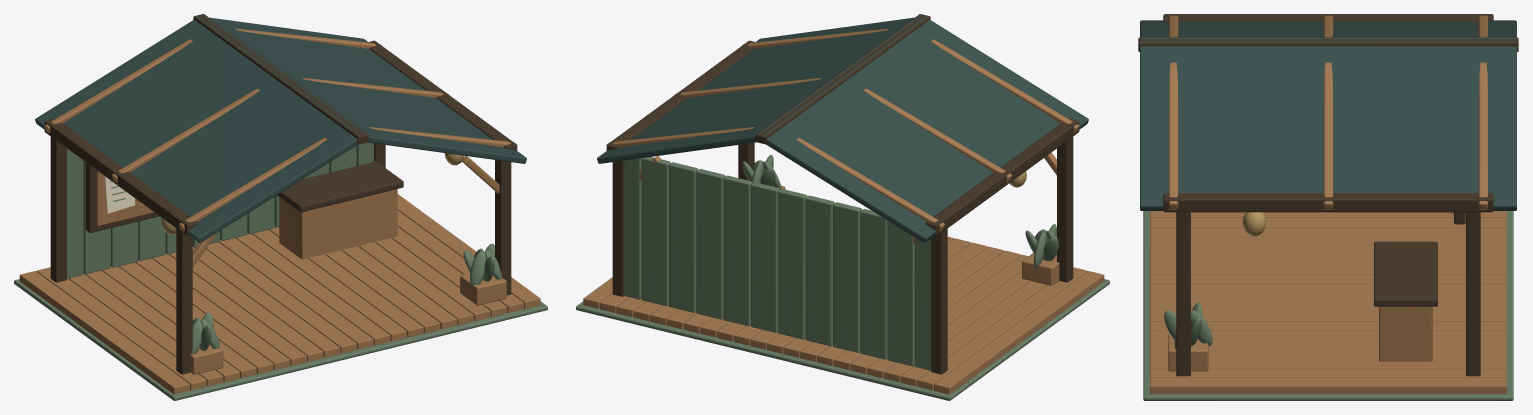
File: SpeakingLodge.glb
The picture shows the model from 3 angles, left to right: view 1: azimuth 30°, elevation 25°; view 2: azimuth 150°, elevation 25°; view 3: azimuth 270°, elevation 25°; orthographic projection. The views are drawn at different scales.
Parts seen in each view (by area): view 1: Sloping roof, Sloping roof.001, Welcome counter, Stone foundation, Deck plank, Countertop, Eave beam, Deck plank.012, Deck plank.011, Deck plank.010, Deck plank.001, Timber post.001 (+37 smaller); view 2: Sloping roof, Sloping roof.001, Rear wall board.005, Rear wall board.008, Rear wall board.003, Rear wall board.004, Rear wall board.006, Rear wall board.009, Rear wall board.007, Rear wall board.010, Rear wall board.002, Stone foundation (+26 smaller); view 3: Sloping roof.001, Sloping roof, Eave beam.001, Deck plank.021, Stone foundation, Countertop, Deck plank.004, Deck plank.020, Deck plank.005, Ridge cap, Deck plank.006, Welcome counter (+23 smaller).
Boxes of the visible parts, x1,y1,x2,y2 form: Sloping roof: (35,14,365,242); Sloping roof.001: (196,16,526,163); Welcome counter: (279,189,397,259); Stone foundation: (14,279,547,400); Deck plank: (19,271,189,394); Countertop: (277,161,403,212); Eave beam: (44,118,198,236); Deck plank.012: (236,233,390,345); Deck plank.011: (219,238,373,349); Deck plank.010: (206,242,356,353); Deck plank.001: (36,267,206,390); Timber post.001: (50,137,66,282); Sloping roof: (758,14,1088,242); Sloping roof.001: (597,16,927,163); Rear wall board.005: (778,189,807,339); Rear wall board.008: (696,169,725,319); Rear wall board.003: (833,202,861,352); Rear wall board.004: (805,195,834,346); Rear wall board.006: (751,182,779,332); Rear wall board.009: (669,162,697,312); Rear wall board.007: (723,175,752,326); Rear wall board.010: (641,157,670,306); Rear wall board.002: (860,209,887,359); Stone foundation: (576,279,1109,400); Sloping roof.001: (1140,37,1516,210); Sloping roof: (1140,20,1516,41); Eave beam.001: (1163,193,1493,212); Deck plank.021: (1150,377,1506,393); Stone foundation: (1143,211,1513,400); Countertop: (1374,241,1437,306); Deck plank.004: (1150,217,1506,227); Deck plank.020: (1150,368,1506,377); Deck plank.005: (1150,227,1506,236); Ridge cap: (1138,37,1518,51); Deck plank.006: (1150,236,1506,245); Welcome counter: (1379,306,1432,361).
Bounding box in the file's own units: 7.4 × 4.2 × 5.65.
